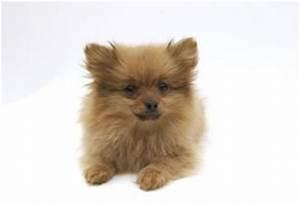dog: (78, 36, 207, 191)
